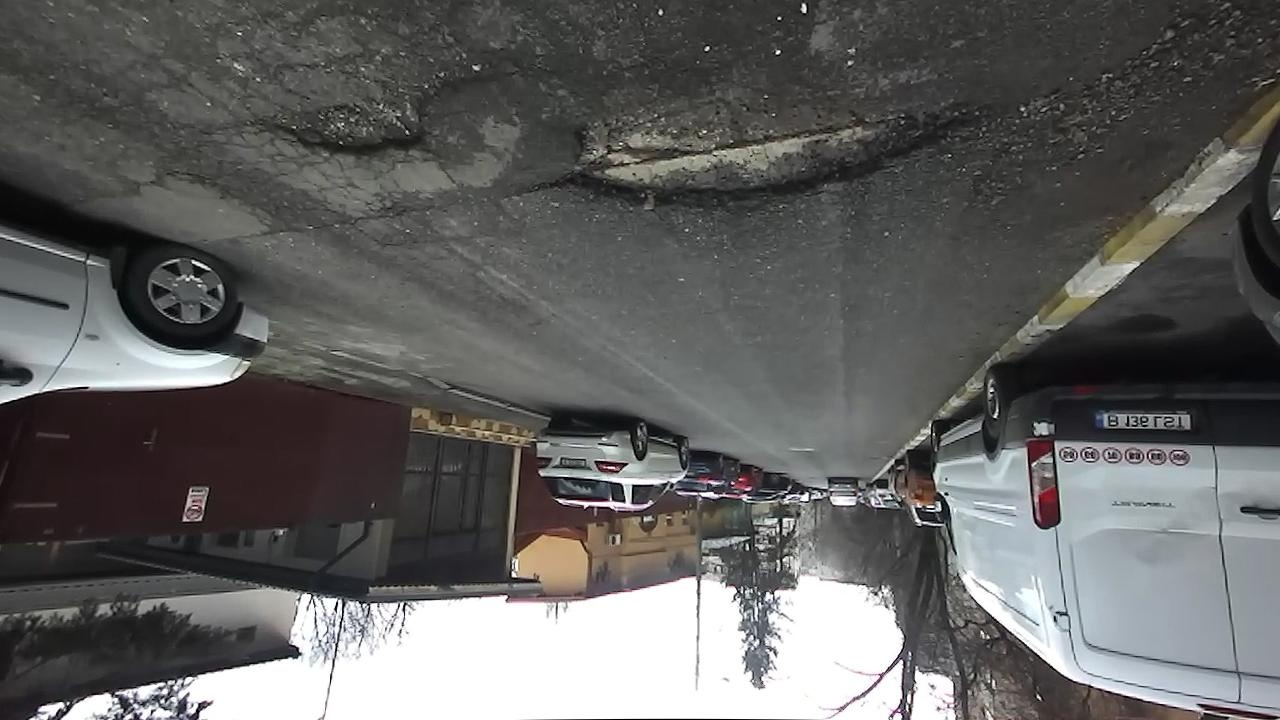pothole: (534, 78, 988, 216), (261, 71, 448, 166)
